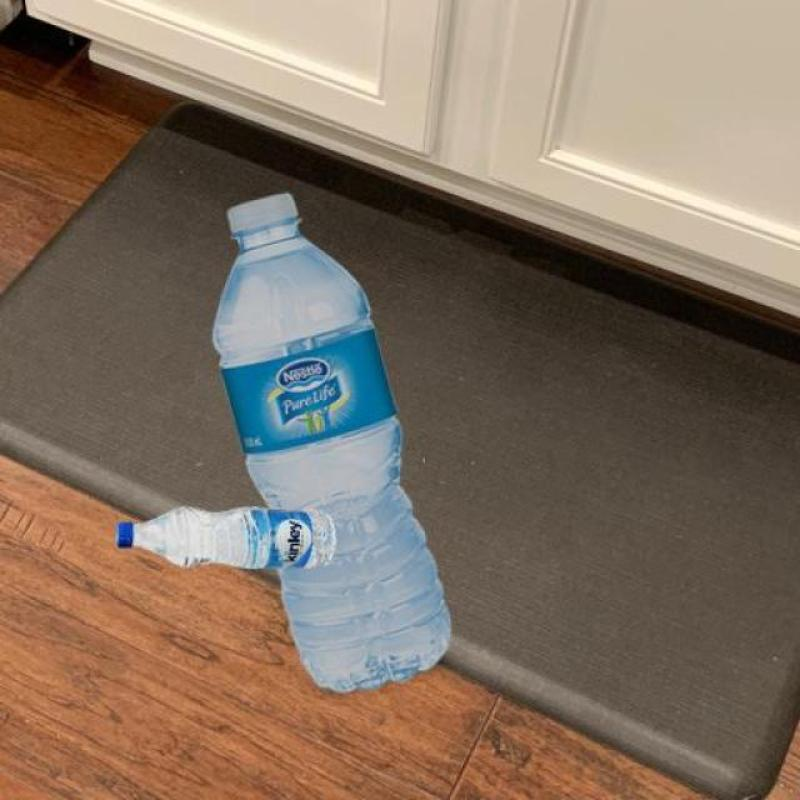botella: (211, 194, 453, 688), (114, 504, 338, 570)
